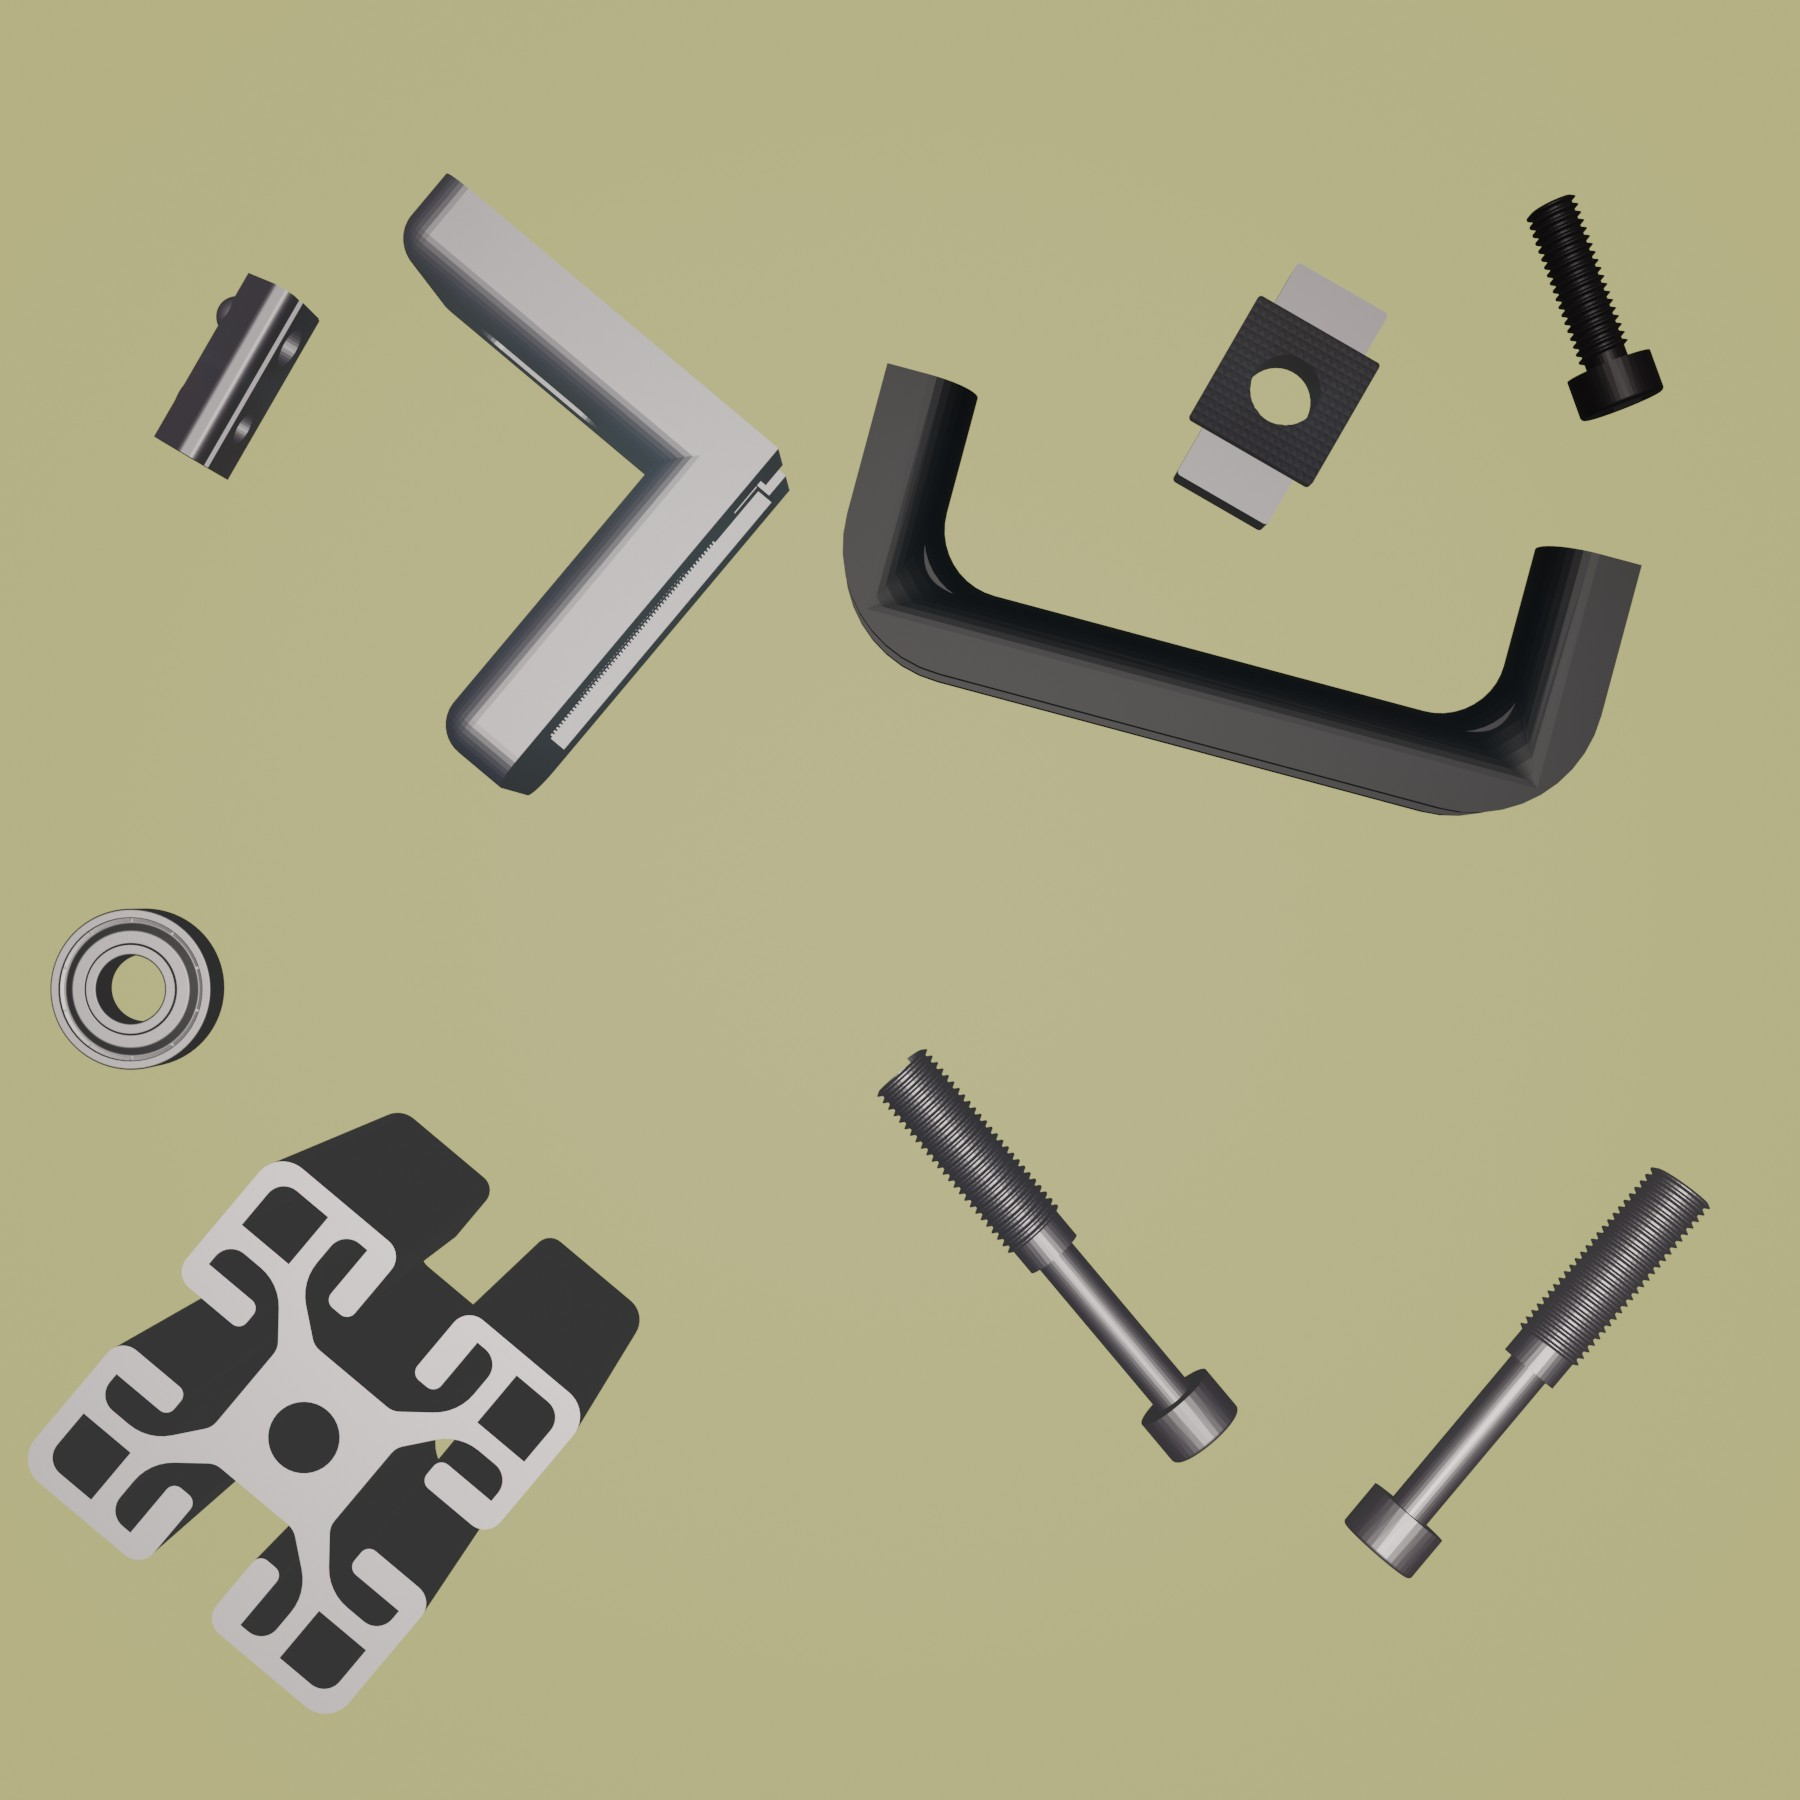Aluminium Extension: (26, 1108, 641, 1719)
Ball Bearing: (49, 905, 227, 1075)
Multiwinkel: (401, 168, 793, 799)
Pull Handle: (839, 358, 1643, 818)
Shoulder Socket Head Cap Screw: (1342, 1165, 1709, 1581), (875, 1047, 1240, 1465)
Socket Head Cap Screw: (1521, 191, 1665, 424)
T Nut Square: (1170, 259, 1391, 532)
T Spring Nut: (152, 269, 320, 481)
